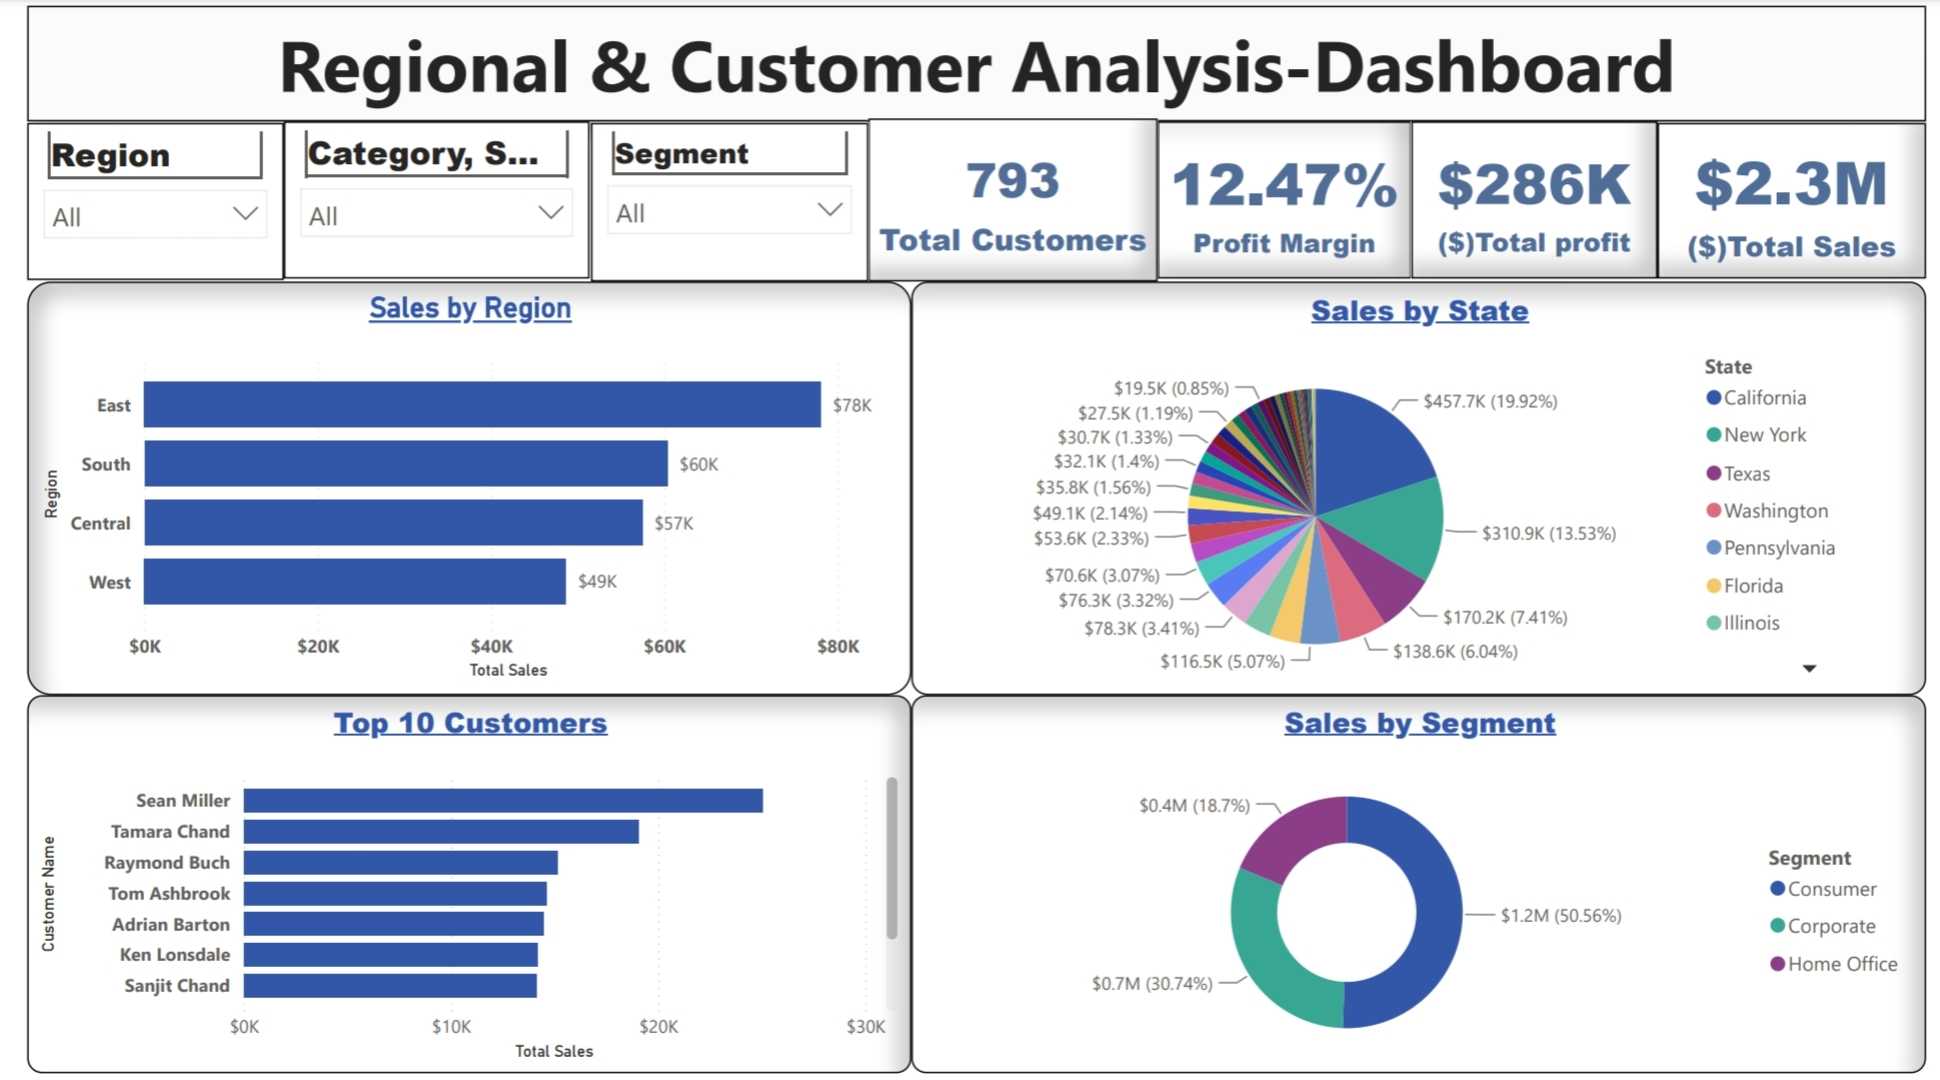

The page's visual inventory and layout, read from the dashboard file:
{"tool":"powerbi","page":{"name":"Regional & Customer Analysis","canvas":[1280,720],"ordinal":3},"visuals":[{"type":"textbox","box":[0,0,1280,78.2],"z":0},{"type":"card","fields":{"Values":["Calendar.Total Sales"]},"box":[1098.7,79.2,181.4,105.1],"z":1000},{"type":"card","fields":{"Values":["Calendar.Profit Margin"]},"box":[761.8,77.8,171.4,106.6],"z":2000},{"type":"card","fields":{"Values":["Calendar.Total Customers"]},"box":[567.4,76.3,194.4,109.4],"z":3000},{"type":"card","fields":{"Values":["Calendar.Total profit"]},"box":[933.1,77.8,165.6,106.6],"z":4000},{"type":"slicer","fields":{"Values":["Orders.Region"]},"box":[0,79.2,172.7,106.3],"z":5000},{"type":"slicer","fields":{"Values":["Orders.Category","Orders.Sub-Category"]},"box":[172.8,77.8,206.7,106.3],"z":6000},{"type":"slicer","fields":{"Values":["Orders.Segment"]},"box":[380.2,79.2,187.2,106.6],"z":7000},{"type":"barChart","title":"Sales by Region","fields":{"Category":["Orders.Region"],"Y":["Calendar.Total Sales"]},"box":[0,185.8,595.8,279.7],"z":8000},{"type":"pieChart","title":" Sales by State","fields":{"Category":["Orders.State"],"Y":["Calendar.Total Sales"]},"box":[596.2,185.8,684,279.4],"z":9000},{"type":"clusteredBarChart","title":"Top 10 Customers","fields":{"Category":["Orders.Customer Name"],"Y":["Calendar.Total Sales"]},"box":[0,465.1,596.2,254.9],"z":10000},{"type":"donutChart","title":" Sales by Segment","fields":{"Category":["Orders.Segment"],"Y":["Calendar.Total Sales"]},"box":[596,465,684,255],"z":11000}]}

Visuals, with their boxes in screenshot pixels (x1, y1, x2, y2), scaled from the page's 1280x720 canvas onto the 1940x1080 screenshot:
textbox: left=0, top=0, right=1939, bottom=117
card - Calendar.Total Sales: left=1665, top=119, right=1939, bottom=276
card - Calendar.Profit Margin: left=1155, top=117, right=1414, bottom=277
card - Calendar.Total Customers: left=860, top=114, right=1155, bottom=279
card - Calendar.Total profit: left=1414, top=117, right=1665, bottom=277
slicer - Orders.Region: left=0, top=119, right=262, bottom=278
slicer - Orders.Category x Orders.Sub-Category: left=262, top=117, right=575, bottom=276
slicer - Orders.Segment: left=576, top=119, right=860, bottom=279
"Sales by Region" barChart: left=0, top=279, right=903, bottom=698
" Sales by State" pieChart: left=904, top=279, right=1939, bottom=698
"Top 10 Customers" clusteredBarChart: left=0, top=698, right=904, bottom=1079
" Sales by Segment" donutChart: left=903, top=698, right=1939, bottom=1079
